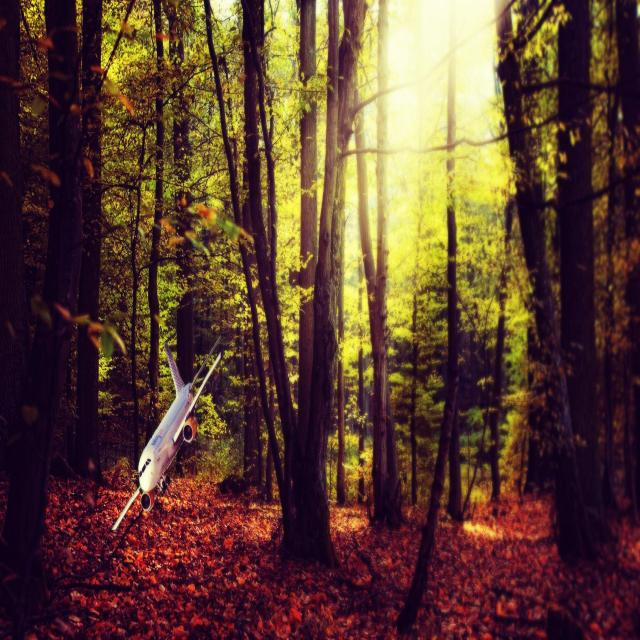airplane: (111, 339, 221, 532)
